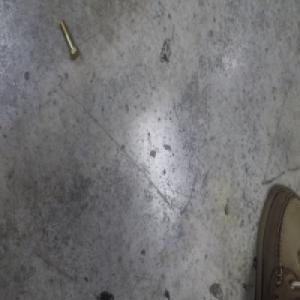Bolt: (59, 17, 80, 63)
